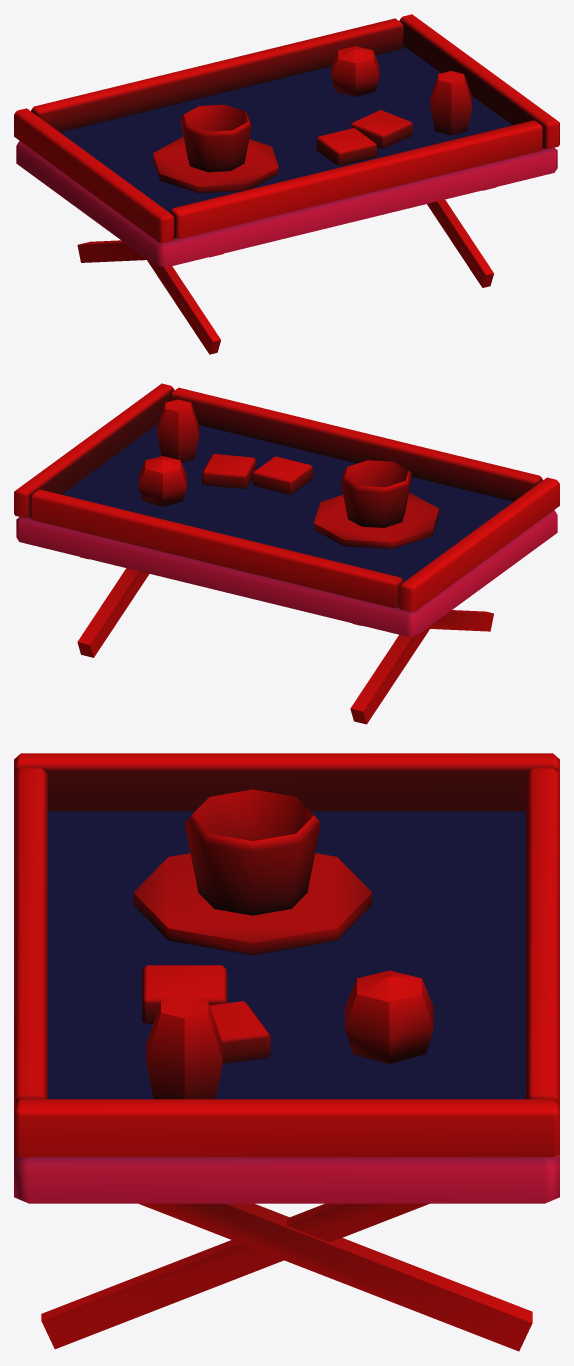
Rendered from CI_Bedroom_BreakfastTray.glb.
3 renders of one model, top to bottom at view 1: azimuth 30°, elevation 25°; view 2: azimuth 150°, elevation 25°; view 3: azimuth 270°, elevation 25°, orthographic. The views are drawn at different scales.
Parts seen in each view (by area): view 1: CI_Bedroom_BreakfastTray; view 2: CI_Bedroom_BreakfastTray; view 3: CI_Bedroom_BreakfastTray.
Boxes of the visible parts, left/top/right/bottom form: CI_Bedroom_BreakfastTray: left=14, top=14, right=559, bottom=354; CI_Bedroom_BreakfastTray: left=14, top=383, right=559, bottom=724; CI_Bedroom_BreakfastTray: left=14, top=753, right=559, bottom=1351.
Bounding box in the file's own units: 0.5 × 0.2192 × 0.32.
